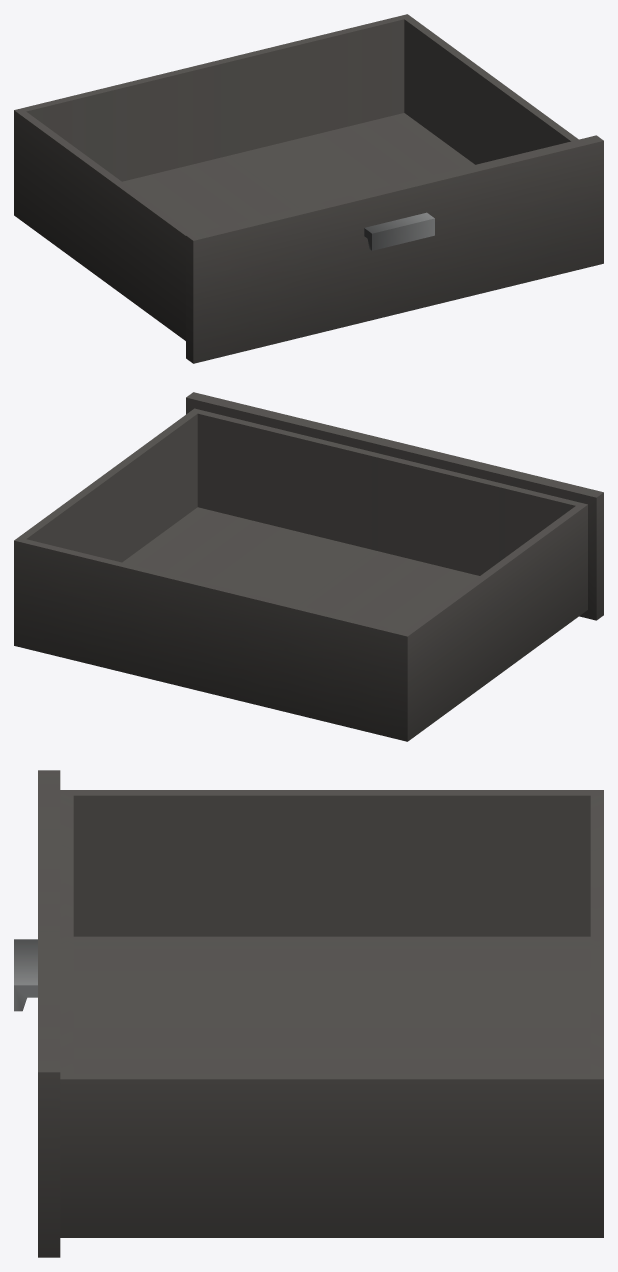
The model's file is Drawer_SideboardCabinet_Gray_medium.fbx.
3 views of the same model, one above another, from view 1: azimuth 30°, elevation 25°; view 2: azimuth 150°, elevation 25°; view 3: azimuth 270°, elevation 25° (orthographic). The views are drawn at different scales.
Visible parts, largest first — view 1: Drawer_SideboardCabinet_Gray_medium; view 2: Drawer_SideboardCabinet_Gray_medium; view 3: Drawer_SideboardCabinet_Gray_medium.
Part boxes in pixels (bbox=[...]): Drawer_SideboardCabinet_Gray_medium: bbox=[14, 14, 603, 363]; Drawer_SideboardCabinet_Gray_medium: bbox=[14, 392, 603, 741]; Drawer_SideboardCabinet_Gray_medium: bbox=[14, 770, 603, 1257].
Size of the model in its own units: 78.47 by 22.45 by 64.83.
